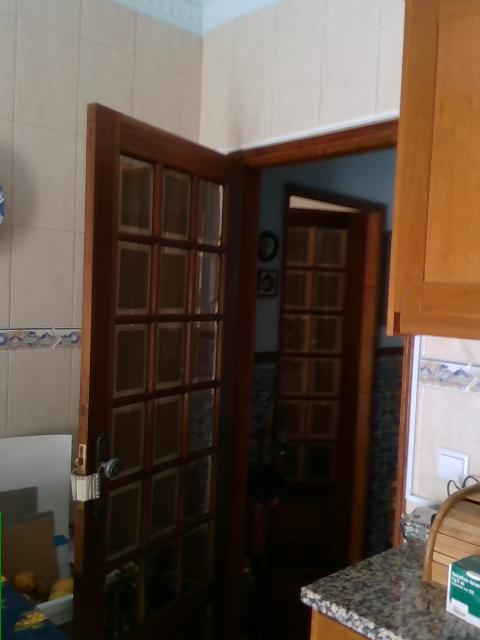door: (67, 105, 246, 640), (273, 208, 363, 600)
